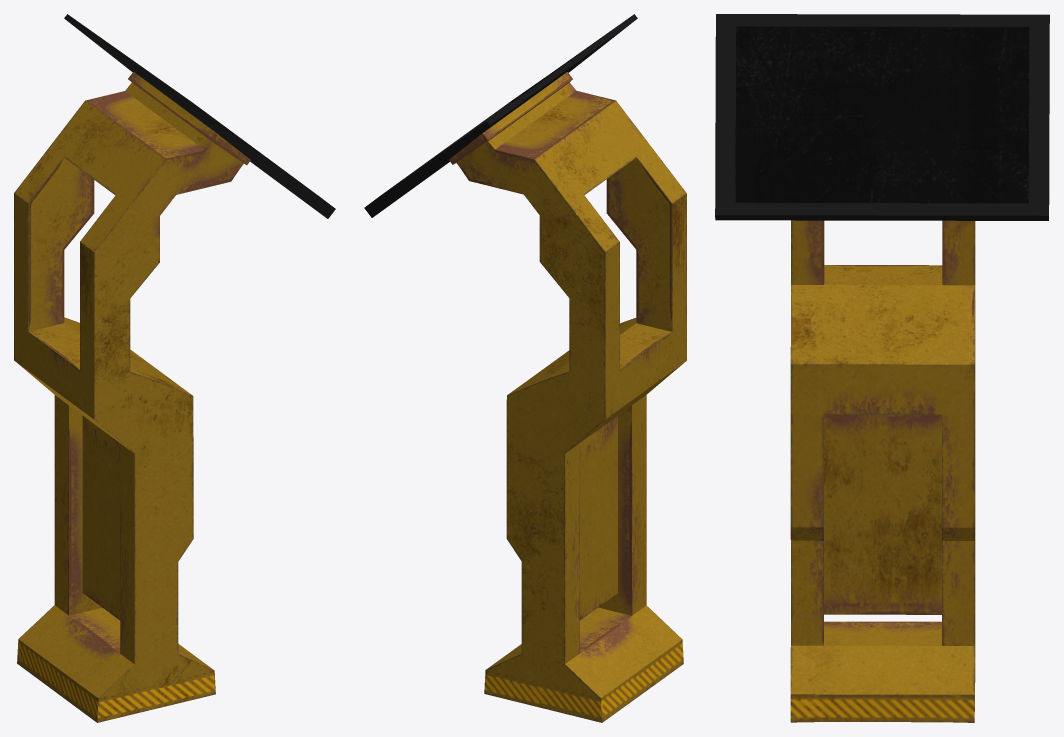
File: console_game_asset.glb
The picture shows the model from 3 angles, left to right: view 1: azimuth 30°, elevation 25°; view 2: azimuth 150°, elevation 25°; view 3: azimuth 270°, elevation 25°; orthographic projection. The views are drawn at different scales.
Visible parts, largest first — view 1: SM_Console; view 2: SM_Console; view 3: SM_Console.
Part boxes in pixels (<box>): SM_Console: <box>14,14,335,722</box>; SM_Console: <box>364,14,686,722</box>; SM_Console: <box>715,14,1049,722</box>.
Size of the model in its own units: 52.57 by 145 by 63.95.
Materials: 1 (1 with a texture image).
